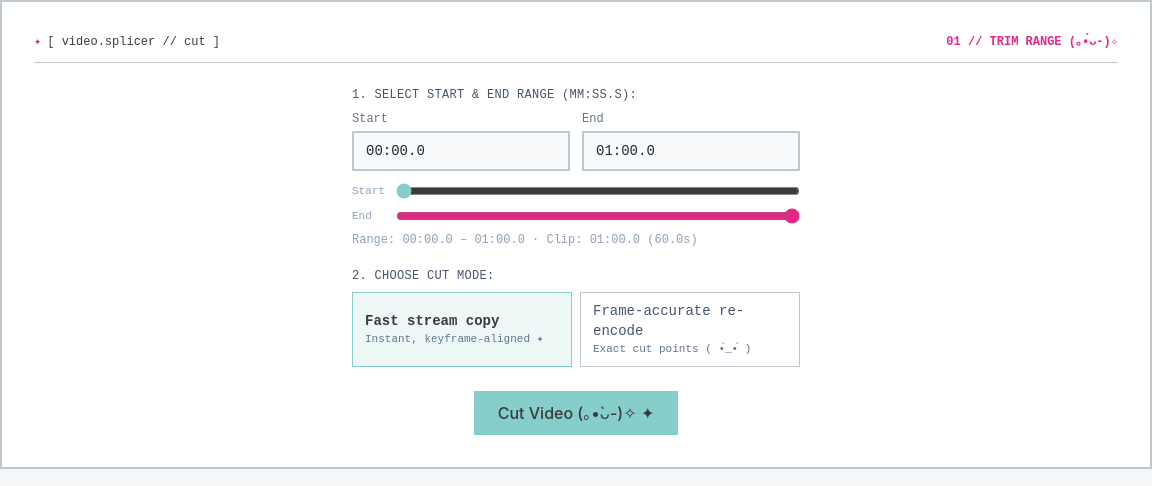
it: CutPanel › polling progress and terminal states › updates UI through Pending -> Processing -> Ready and renders download link
Later steps or results of the test are not shown.
Type "00:15.0" into the field with test id "cut-end-input".
click(691, 151); type("00:15.0")  # box [582,131,800,171]
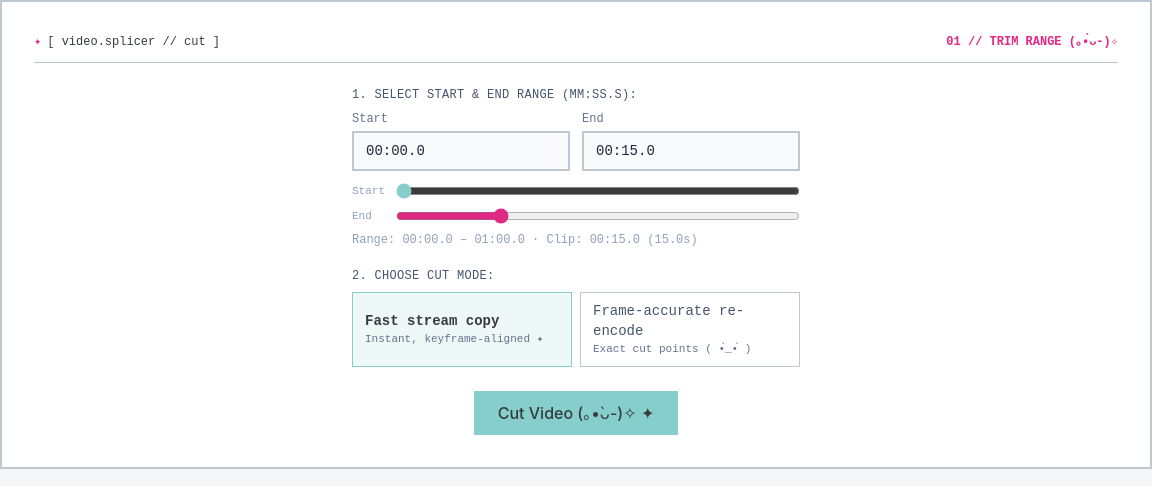
Click the button with test id "start-cut-btn".
click(576, 412)  # box [474,390,678,434]
Wait 2000 ms
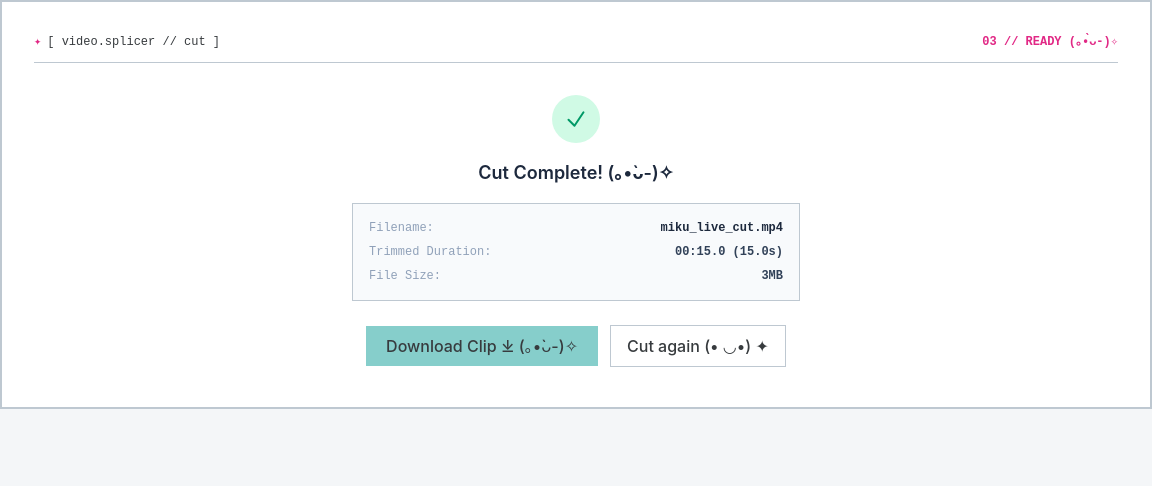
Expected: the text with test id "cut-output-duration" reads "00:15.0 (15.0s)", [675,245,783,259]
Expected: the element with test id "cut-results" is shown, [352,95,800,367]
Expected: the text with test id "cut-output-filename" reads "miku_live_cut.mp4", [661,221,783,235]
